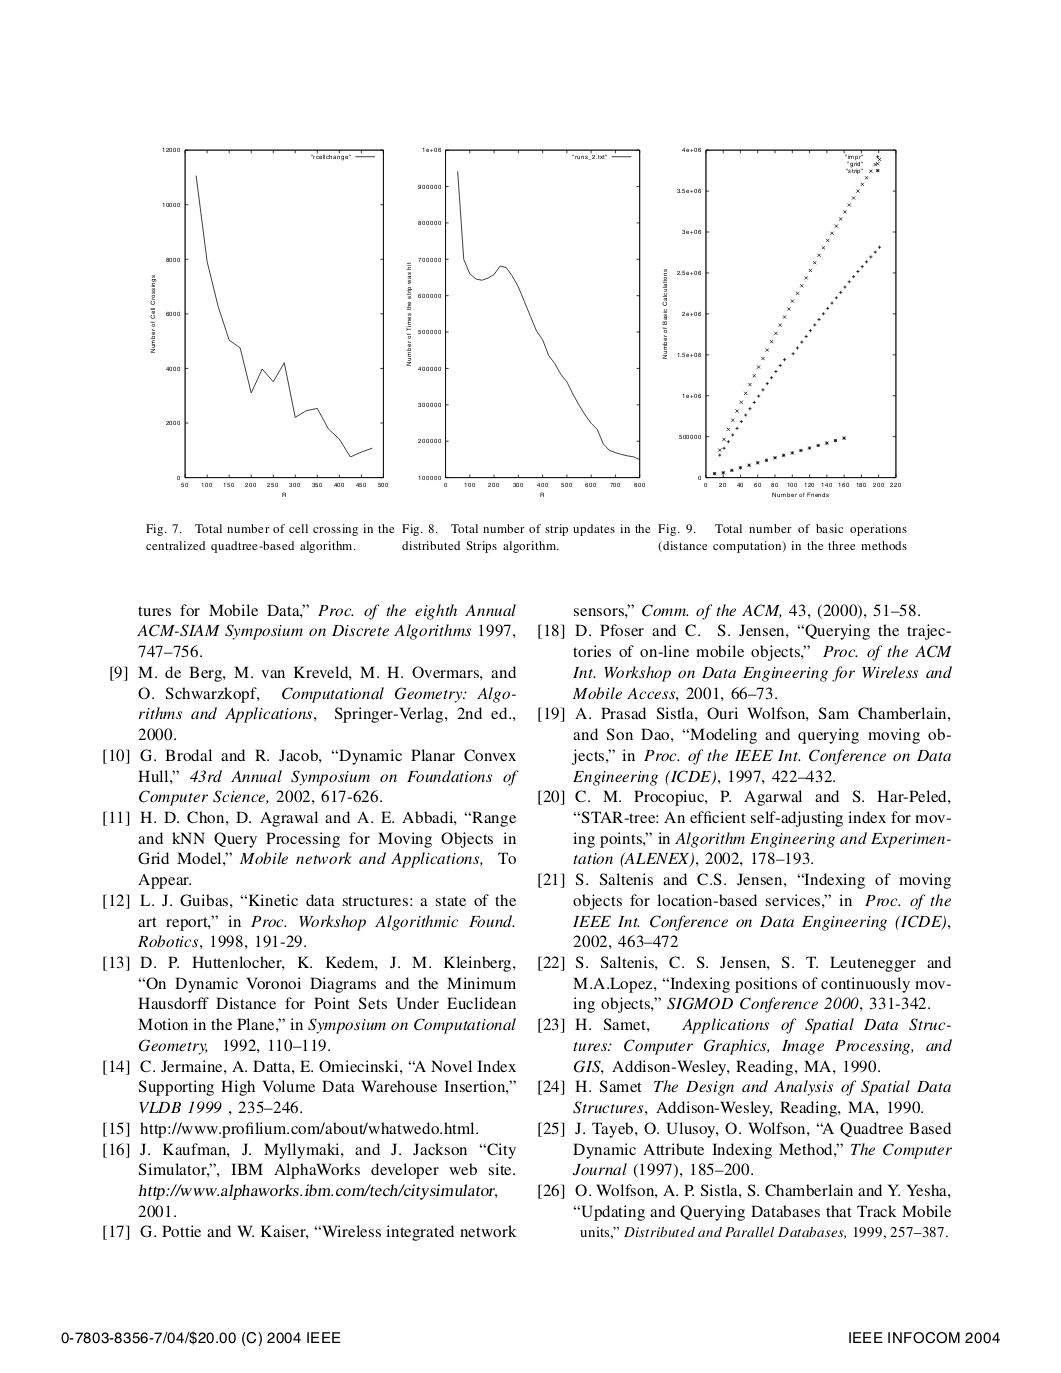figure: (406, 147, 666, 496), (150, 147, 387, 495), (676, 147, 901, 496)
